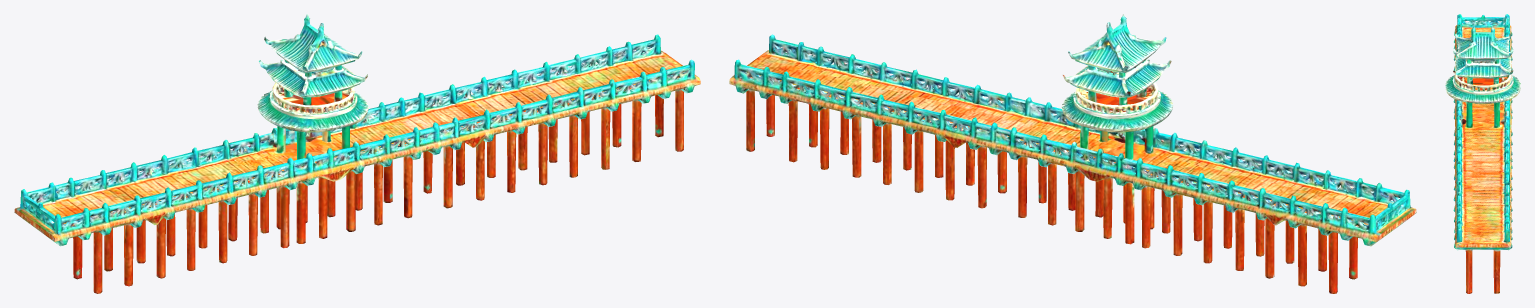
The model's file is ql_longbridge_lo.glb.
3 views of the same model, side by side, from view 1: azimuth 30°, elevation 25°; view 2: azimuth 150°, elevation 25°; view 3: azimuth 270°, elevation 25° (orthographic). The views are drawn at different scales.
Parts seen in each view (by area): view 1: ql_longbridge; view 2: ql_longbridge; view 3: ql_longbridge.
Part boxes in pixels (<box>): ql_longbridge: <box>14,14,700,293</box>; ql_longbridge: <box>729,14,1416,293</box>; ql_longbridge: <box>1445,14,1520,293</box>.
Bounding box in the file's own units: 39.98 × 12.45 × 5.83.
Materials: 1 (1 with a texture image).
